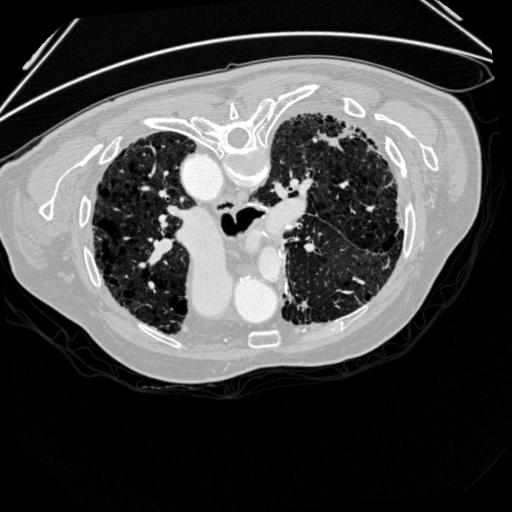nodule: (320, 125, 349, 154)
